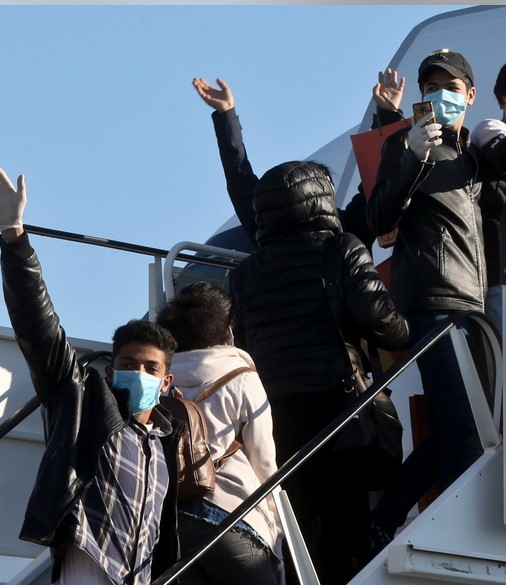face_with_mask: (106, 320, 172, 419), (414, 48, 474, 130)
